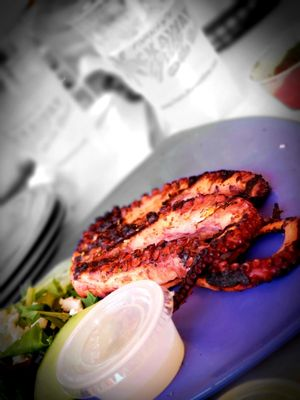soup: (69, 169, 299, 306)
